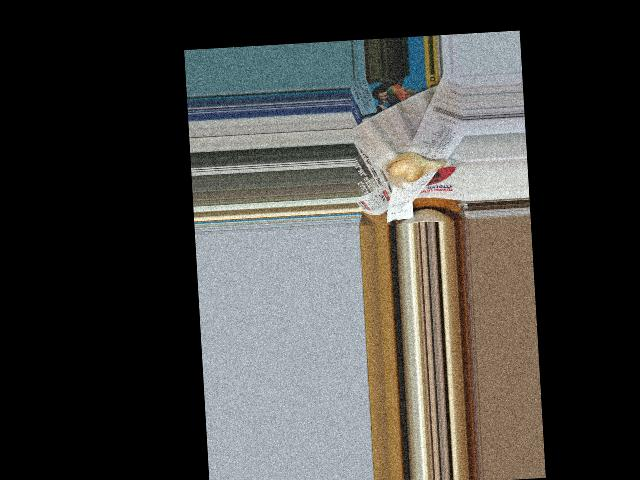onion: (386, 152, 442, 181)
